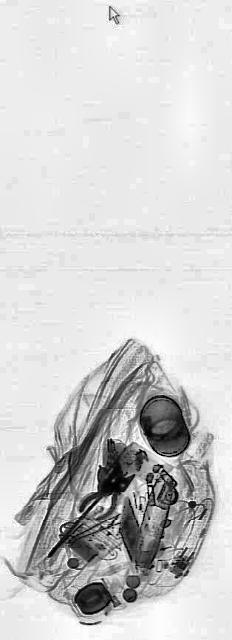Pliers: (78, 454, 136, 538)
